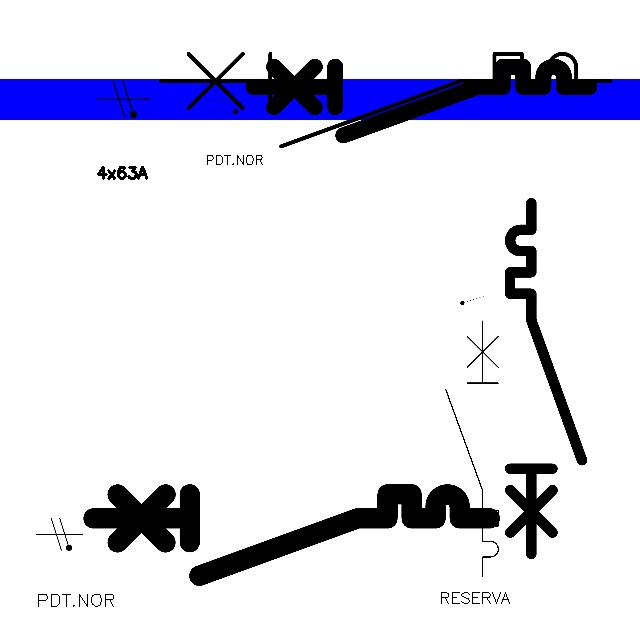interruptor_termomagnetico: (149, 42, 622, 157), (83, 484, 500, 586), (501, 194, 591, 563), (245, 58, 598, 144), (439, 314, 505, 583)
